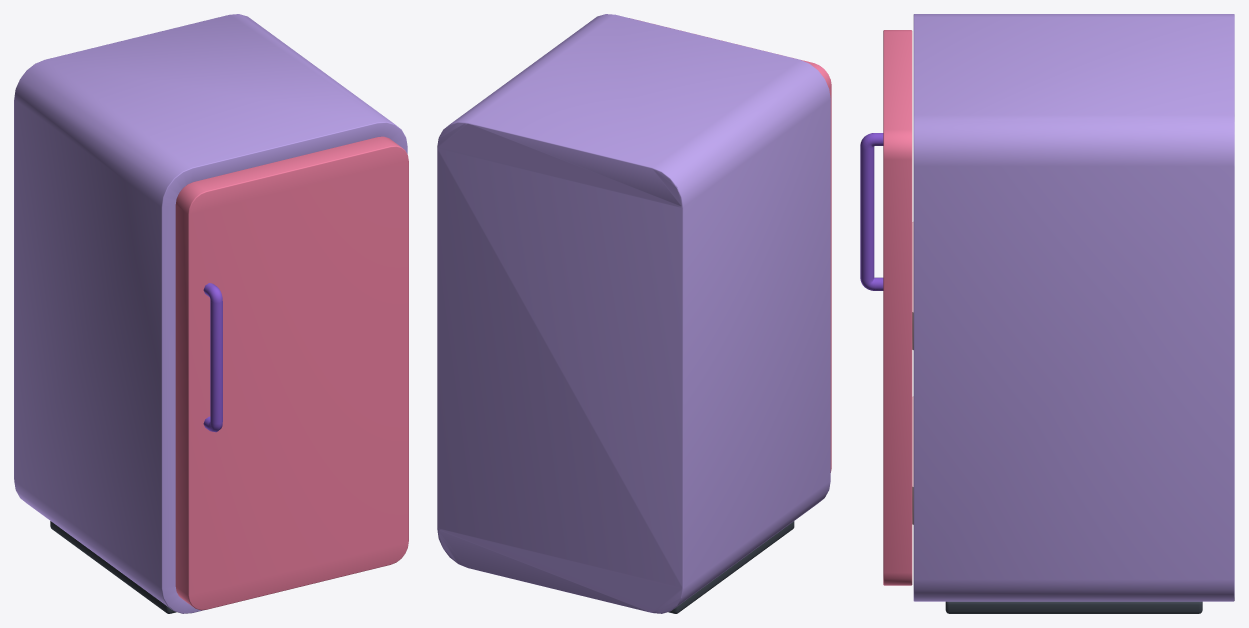
The model's file is frigobar_bicolor_rosa.glb.
The picture shows the model from 3 angles, left to right: view 1: azimuth 30°, elevation 25°; view 2: azimuth 150°, elevation 25°; view 3: azimuth 270°, elevation 25°; orthographic projection. The views are drawn at different scales.
Visible parts, largest first — view 1: frigobar_bicolor_rosa, porta; view 2: frigobar_bicolor_rosa, porta; view 3: frigobar_bicolor_rosa, porta.
Boxes of the visible parts, left/top/right/bottom form: frigobar_bicolor_rosa: left=14, top=14, right=407, bottom=613; porta: left=175, top=136, right=408, bottom=610; frigobar_bicolor_rosa: left=437, top=14, right=830, bottom=613; porta: left=639, top=20, right=831, bottom=472; frigobar_bicolor_rosa: left=913, top=14, right=1234, bottom=613; porta: left=860, top=30, right=913, bottom=585.
Bounding box in the file's own units: 0.48 × 0.85 × 0.583.
1 material, 1 textured.
